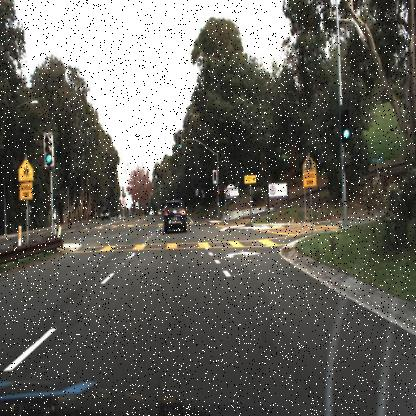car: (158, 191, 190, 237), (96, 202, 111, 225), (99, 209, 112, 223)
trafficLight-Green: (210, 167, 220, 186), (176, 133, 184, 151), (212, 172, 218, 190), (176, 140, 182, 153)
trafficLight-Red: (215, 185, 222, 198)
